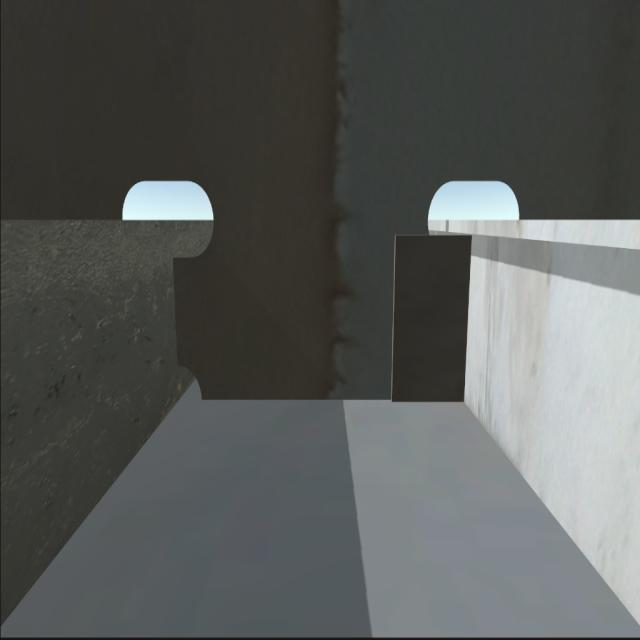fillet_hole: (175, 360, 204, 405)
fillet_yong_jeop_jang: (198, 386, 465, 409)
longi_yong_jeop_jang: (462, 232, 476, 408), (170, 256, 187, 368)
plate_CP01: (396, 236, 468, 400)
